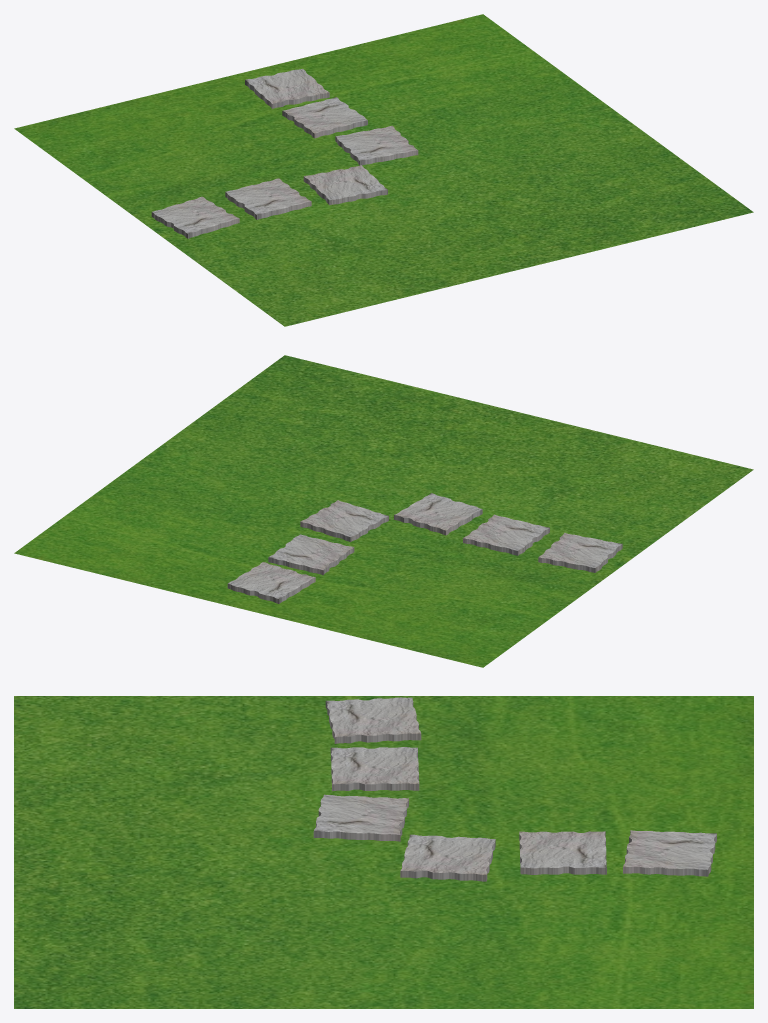
Rendered from pathWN.glb.
3 renders of one model, top to bottom at view 1: azimuth 30°, elevation 25°; view 2: azimuth 150°, elevation 25°; view 3: azimuth 270°, elevation 25°, orthographic. The views are drawn at different scales.
Parts seen in each view (by area): view 1: Plane, Plane.001, Plane.003, Plane.004, Plane.007, Plane.005, Plane.006; view 2: Plane, Plane.004, Plane.007, Plane.005, Plane.003, Plane.001, Plane.006; view 3: Plane, Plane.004, Plane.001, Plane.007, Plane.005, Plane.003, Plane.006.
Boxes of the visible parts, left/top/right/bottom form: Plane: left=14, top=14, right=753, bottom=326; Plane.001: left=151, top=196, right=239, bottom=238; Plane.003: left=225, top=178, right=311, bottom=219; Plane.004: left=303, top=165, right=387, bottom=205; Plane.007: left=245, top=69, right=329, bottom=108; Plane.005: left=335, top=125, right=418, bottom=165; Plane.006: left=282, top=97, right=367, bottom=138; Plane: left=14, top=355, right=753, bottom=667; Plane.004: left=394, top=493, right=482, bottom=535; Plane.007: left=227, top=562, right=315, bottom=603; Plane.005: left=300, top=500, right=388, bottom=541; Plane.003: left=463, top=514, right=549, bottom=555; Plane.001: left=538, top=533, right=622, bottom=572; Plane.006: left=268, top=534, right=354, bottom=575; Plane: left=14, top=696, right=753, bottom=1008; Plane.004: left=313, top=794, right=408, bottom=841; Plane.001: left=325, top=697, right=421, bottom=743; Plane.007: left=623, top=830, right=716, bottom=876; Plane.005: left=400, top=834, right=495, bottom=881; Plane.003: left=330, top=747, right=419, bottom=791; Plane.006: left=519, top=831, right=606, bottom=874.
Size of the model in its own units: 1 by 0.0123 by 1.
Materials: 2 (2 with a texture image).
